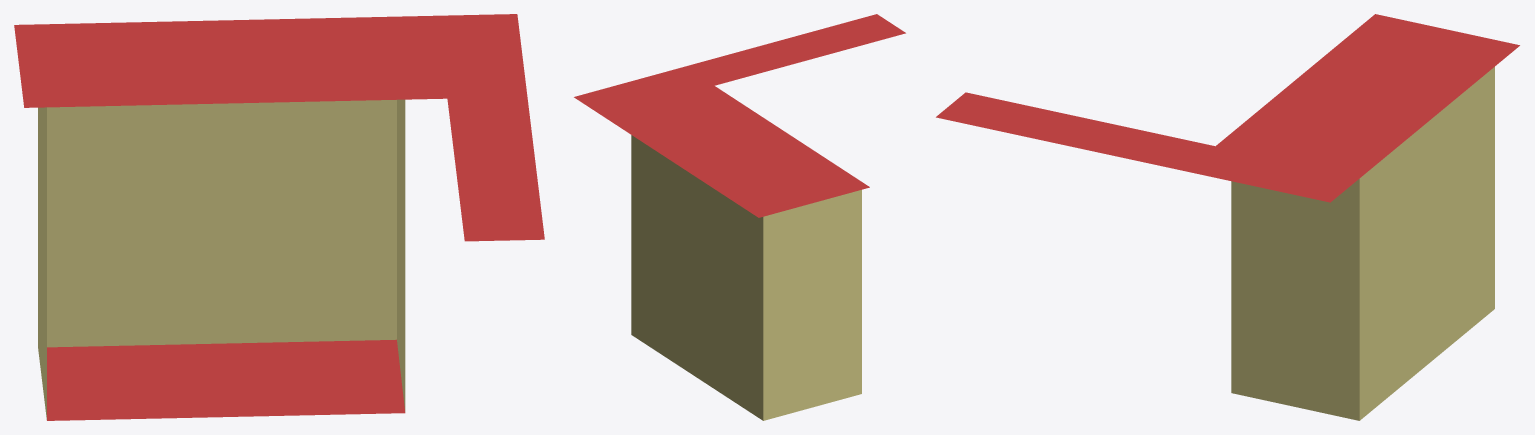
3 views of the same model, side by side, from view 1: azimuth 30°, elevation 25°; view 2: azimuth 150°, elevation 25°; view 3: azimuth 270°, elevation 25° (orthographic). The views are drawn at different scales.
Size of the model in its own units: 11.83 by 15.5 by 7.6.
